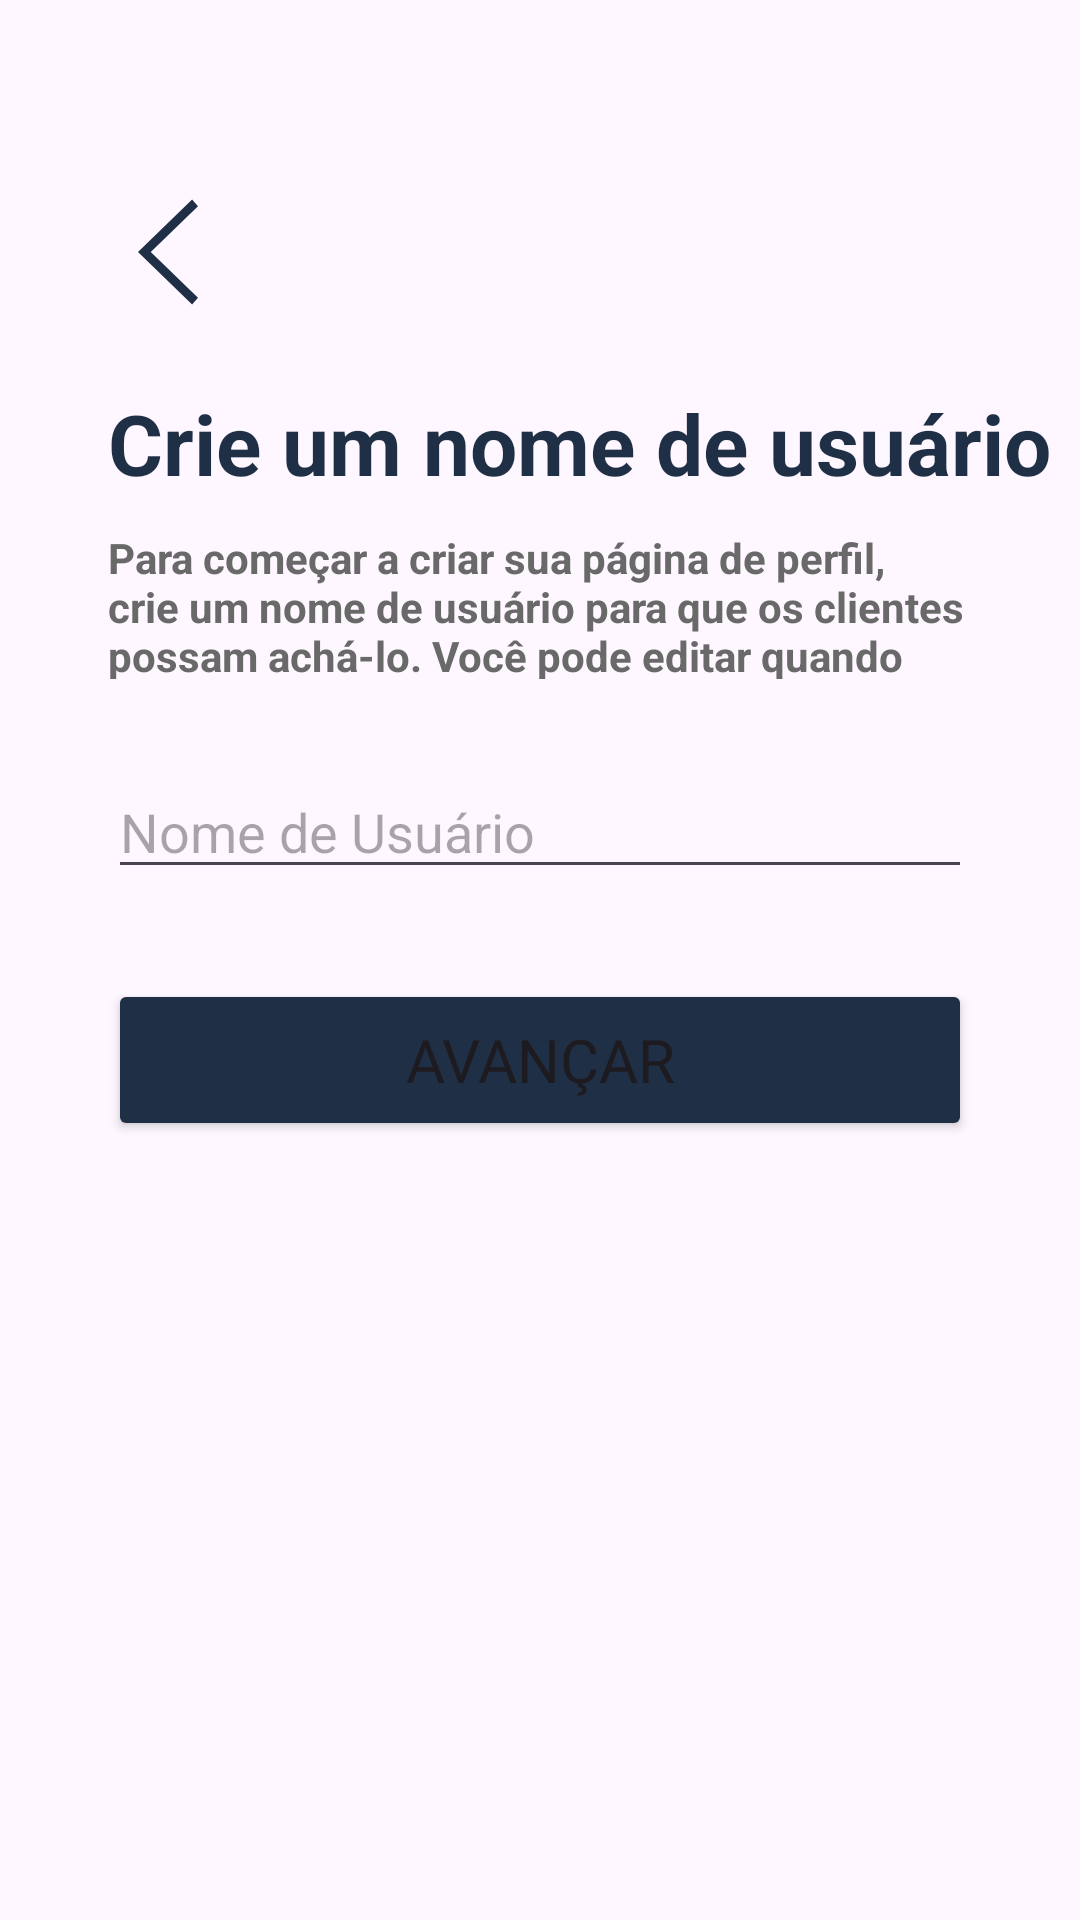

Icon click points for this 1080*1920 phone screenshot, format (x=x, y=y):
icseta esquerda: (x=168, y=252)
